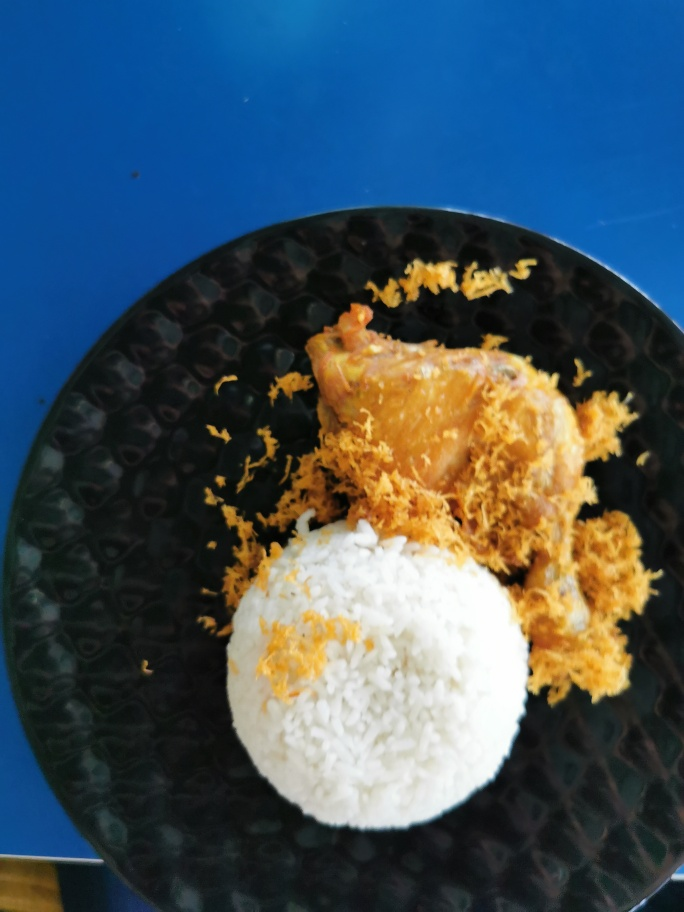ayam goreng: (286, 299, 646, 697)
nasi putih: (218, 519, 535, 840)
